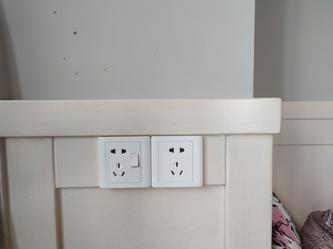switch: (130, 153, 139, 167)
